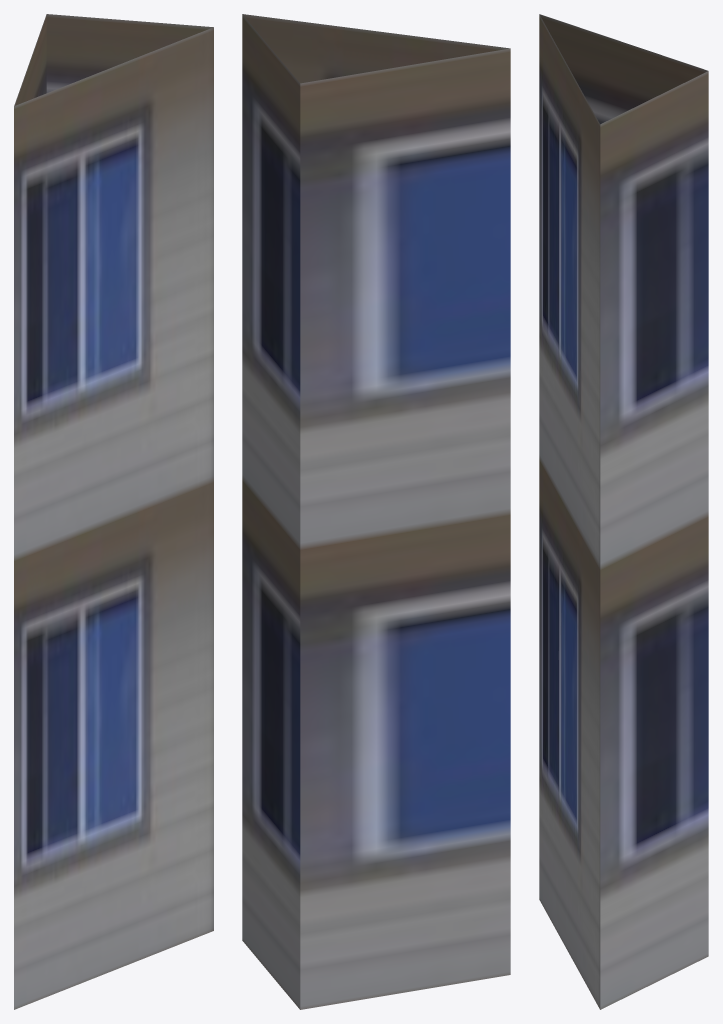
The model's file is ResTex__4908.fbx.
3 views of the same model, side by side, from view 1: azimuth 30°, elevation 25°; view 2: azimuth 150°, elevation 25°; view 3: azimuth 270°, elevation 25° (orthographic). The views are drawn at different scales.
Visible parts, largest first — view 1: CityEngineMaterial_23_m; view 2: CityEngineMaterial_23_m; view 3: CityEngineMaterial_23_m.
Boxes of the visible parts, x1,y1,x2,y2 form: CityEngineMaterial_23_m: (14,14,213,1009); CityEngineMaterial_23_m: (242,14,510,1009); CityEngineMaterial_23_m: (539,14,708,1009).
Bounding box in the file's own units: 1.6 × 6 × 1.04.
1 material, 1 textured.
